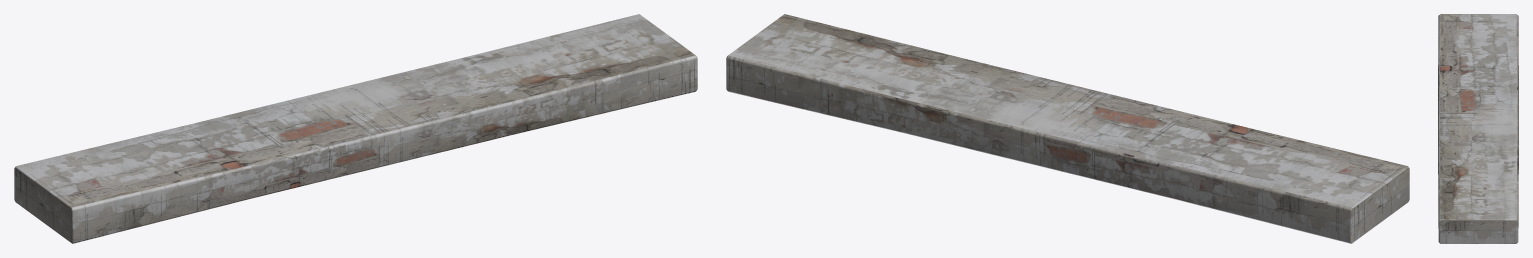
File: sm_Wall_06_36_Cornice.fbx
3 renders of one model, left to right at view 1: azimuth 30°, elevation 25°; view 2: azimuth 150°, elevation 25°; view 3: azimuth 270°, elevation 25°, orthographic. The views are drawn at different scales.
Parts seen in each view (by area): view 1: sm_Wall_06_36_Cornice_LOD0; view 2: sm_Wall_06_36_Cornice_LOD0; view 3: sm_Wall_06_36_Cornice_LOD0.
Boxes of the visible parts, <box> form: sm_Wall_06_36_Cornice_LOD0: <box>14,14,697,243</box>; sm_Wall_06_36_Cornice_LOD0: <box>726,14,1409,243</box>; sm_Wall_06_36_Cornice_LOD0: <box>1438,14,1518,243</box>.
Bounding box in the file's own units: 66.53 × 402 × 22.47.
